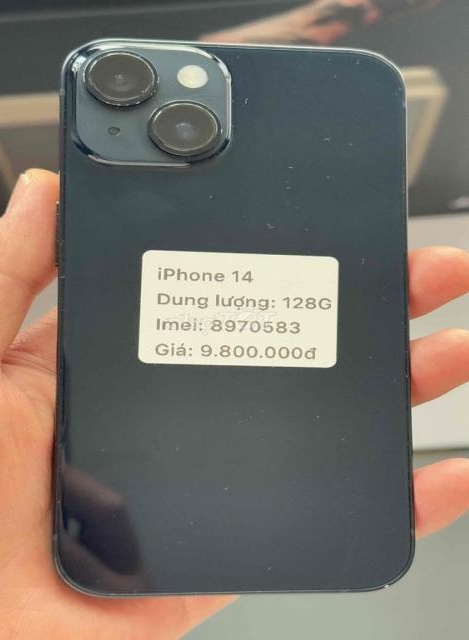scratch: (148, 98, 230, 190), (71, 44, 173, 108), (391, 83, 423, 123), (174, 534, 214, 566), (225, 481, 261, 515), (276, 158, 302, 202), (311, 405, 337, 444), (250, 223, 320, 237), (320, 131, 361, 154), (265, 569, 298, 595), (351, 251, 375, 285), (351, 56, 371, 78), (243, 90, 257, 116), (340, 431, 356, 453), (333, 75, 350, 94), (323, 168, 342, 184)
